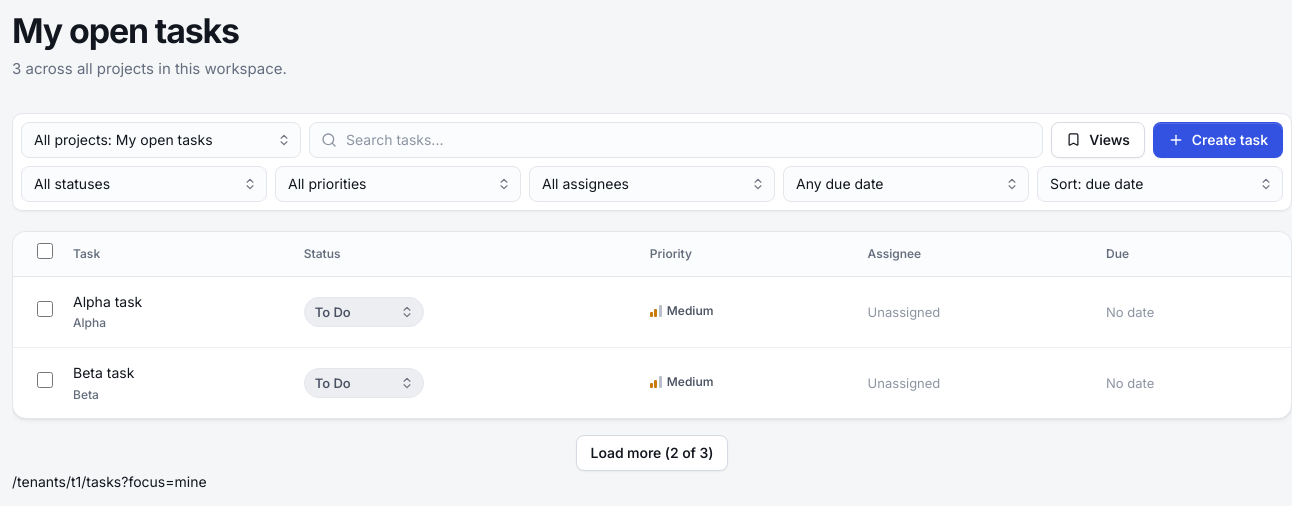
Test: Tasks page focus views (from the dashboard) › switches between focus views and back to the per-project list
Check: the button "Beta task" is shown, box [73,362,272,383]
Select "All projects: Due in the next 7 days" in the dropdown named "Task view" at {"x": 161, "y": 140}, box [21,122,301,158]
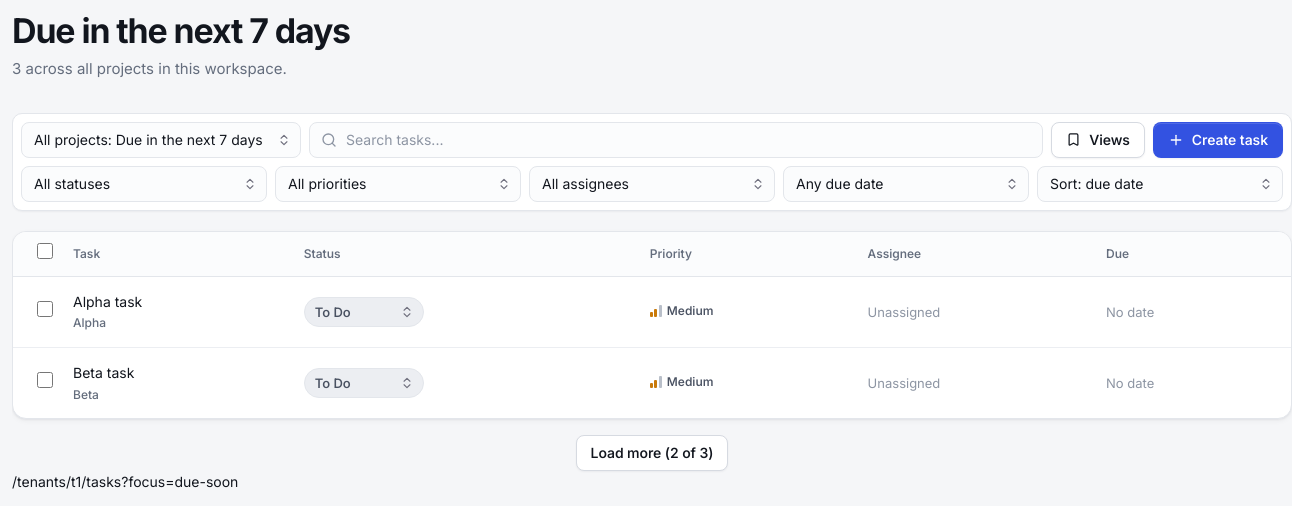
Check: the heading "Due in the next 7 days" is shown, box [12,12,350,49]
Select "By project" in the dropdown named "Task view" at {"x": 161, "y": 140}, box [21,122,301,158]
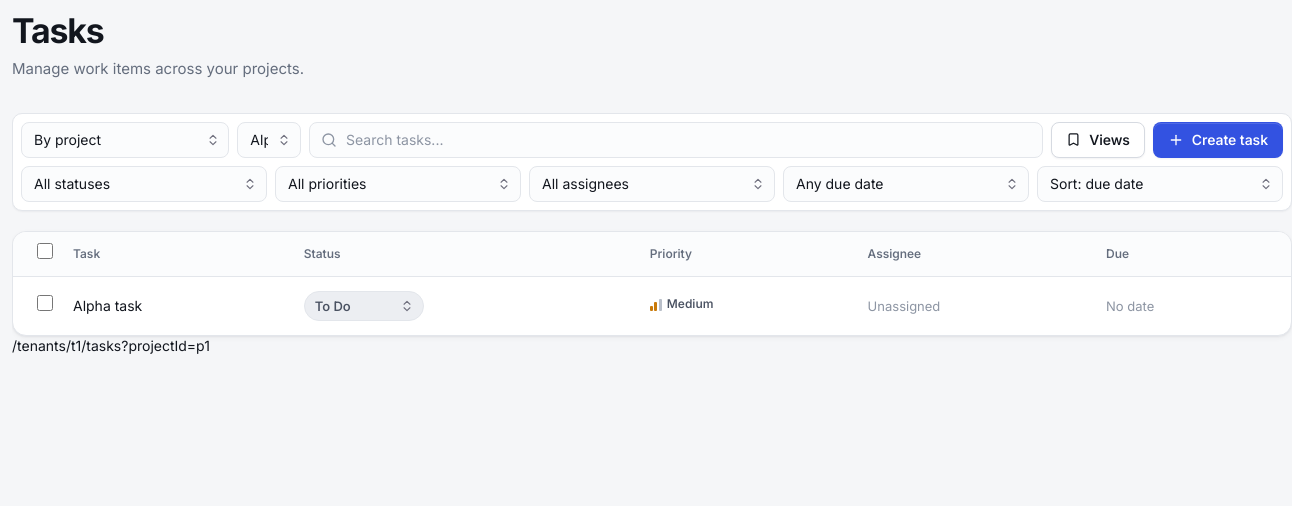
Check: the dropdown named "Project" is shown, box [237,122,301,158]
